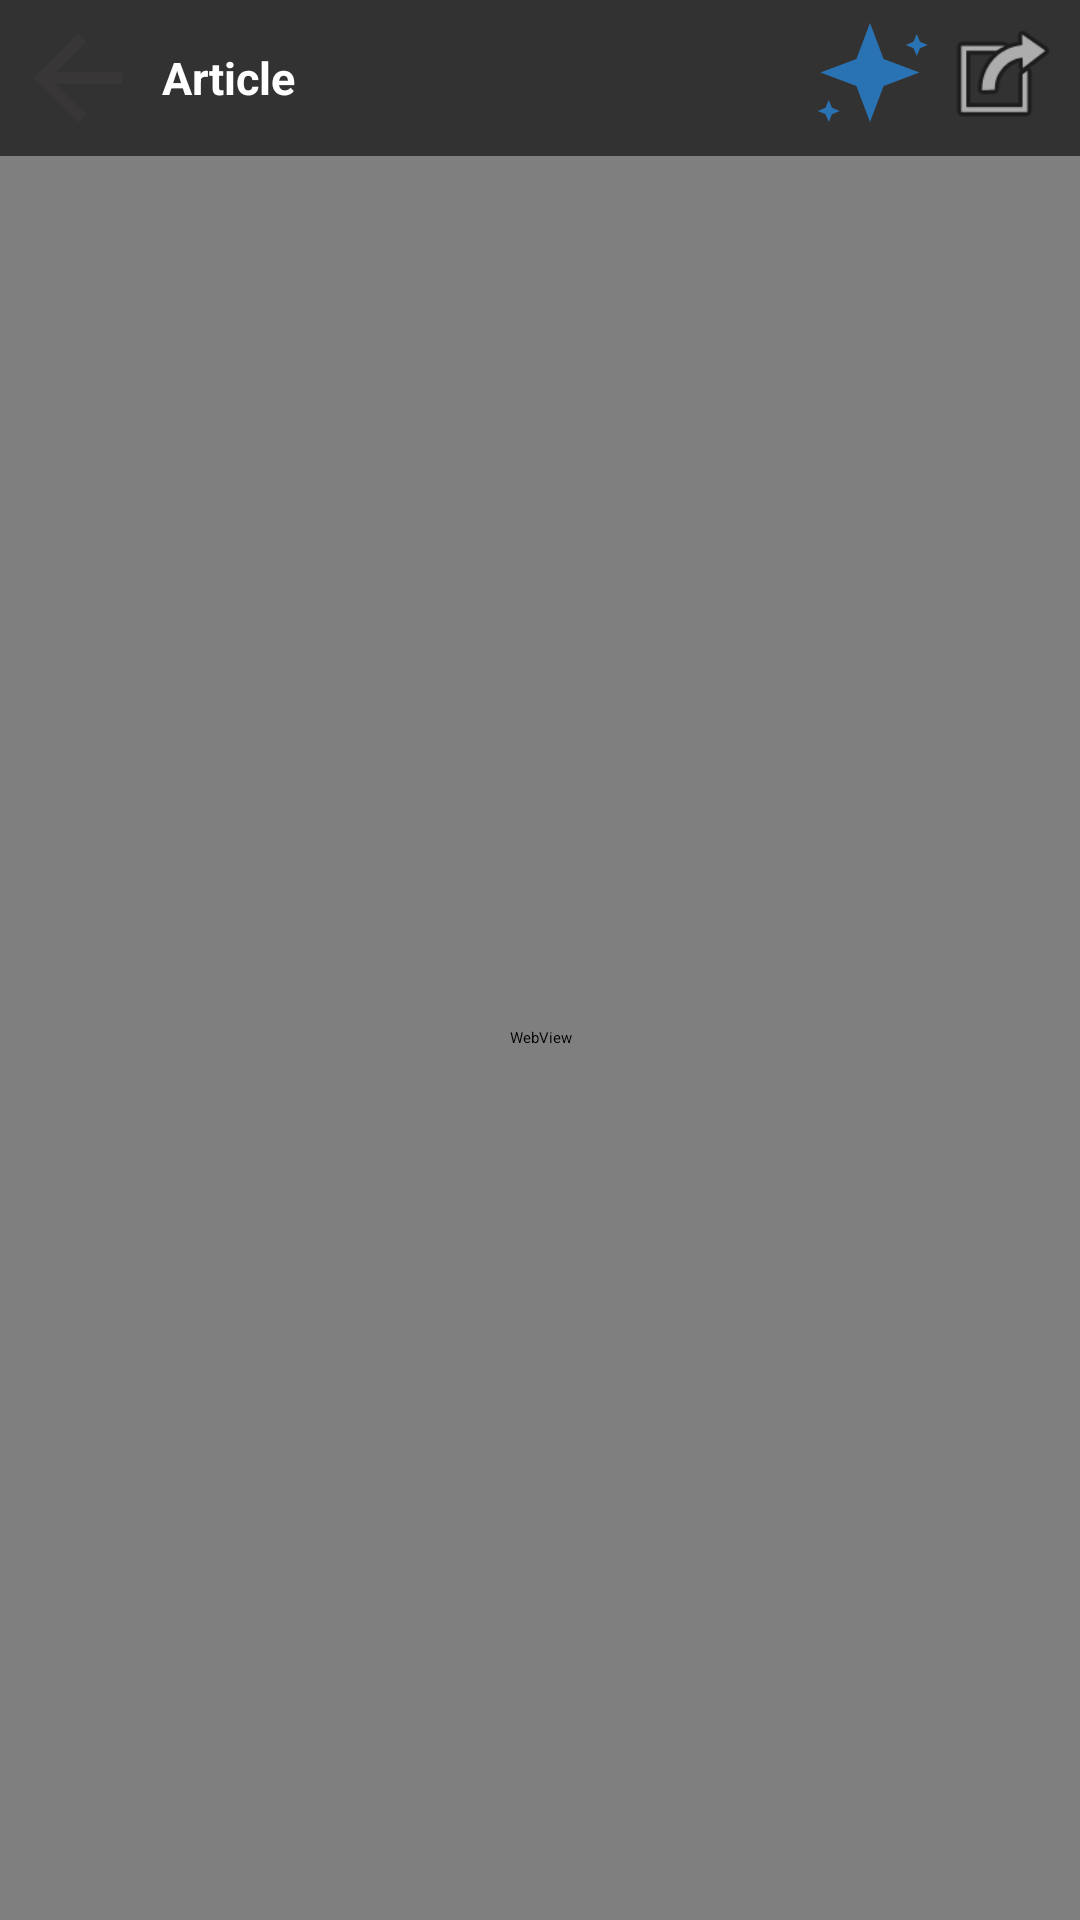

Screen size 1080x1920. Icon name, then its box in pixels as (x1, y1, x2, y2):
AI analysis: (818, 23, 927, 122)
Open in browser: (961, 35, 1045, 114)
